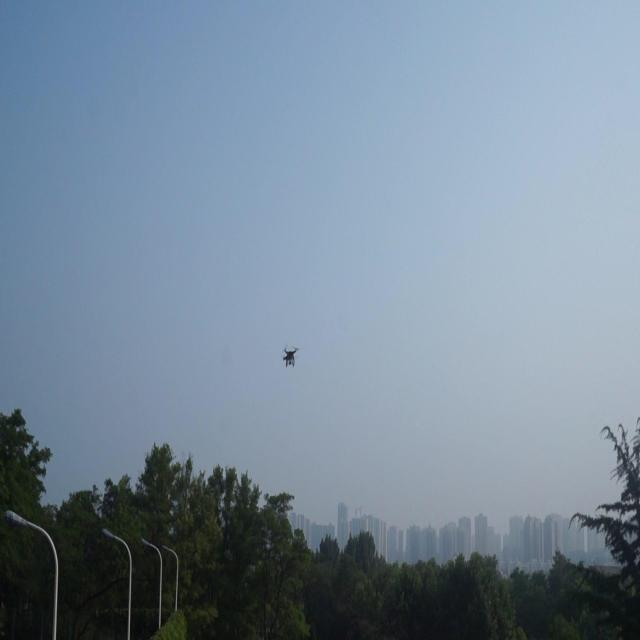drone: (279, 340, 299, 372)
